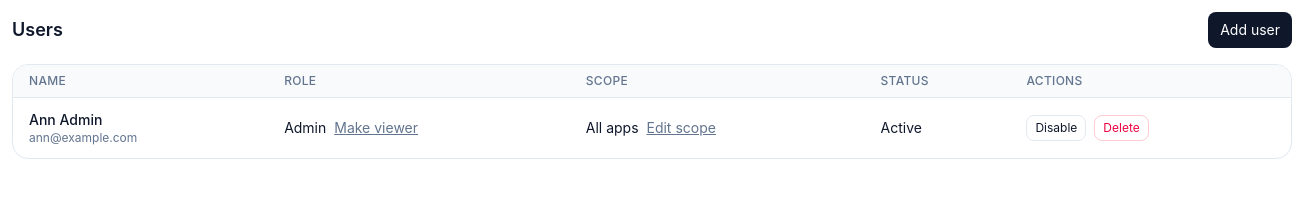
it: UserManager › renders the last_admin refusal as a sentence when a role change would demote the last admin
The width and height of the screenshot is (1304, 208).
Check: the text "Ann Admin" is shown, box [29,111,102,128]
Click the button "Make viewer": (376, 128) [334,118,418,138]
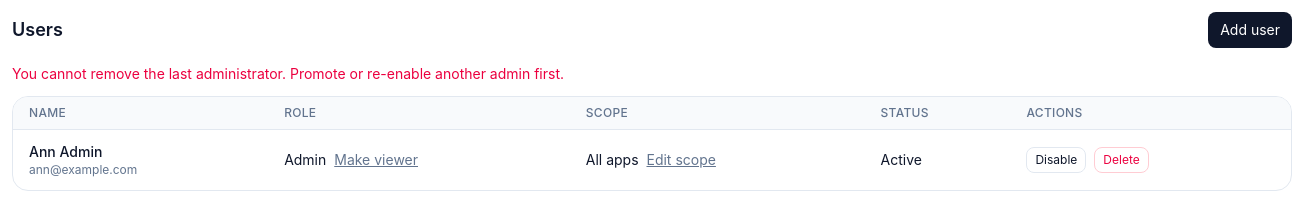
Check: the text "cannot remove the last administrator" is shown, box [12,65,564,82]
